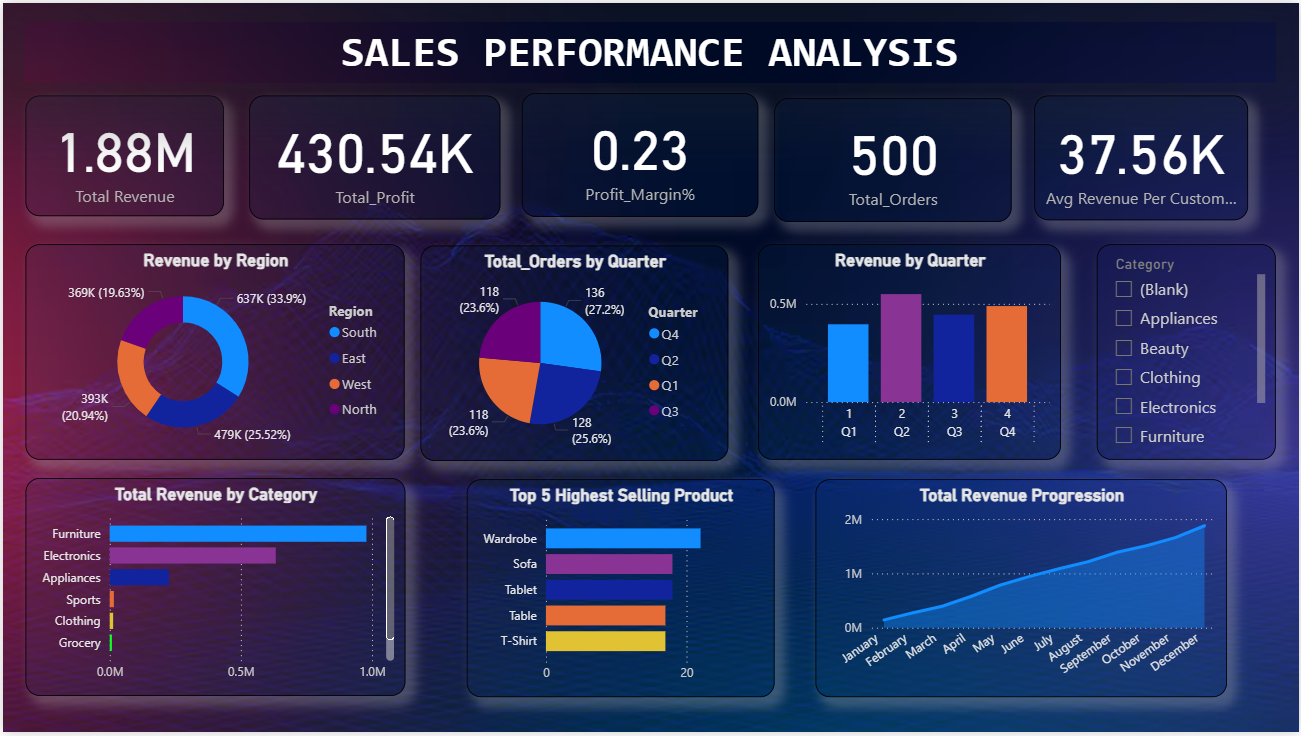

Layout of this report page (visuals, bound fields, positions):
{"tool":"powerbi","page":{"name":"Page 1","canvas":[1280,720],"ordinal":0},"visuals":[{"type":"card","fields":{"Values":["sales.Total Revenue"]},"box":[22,91.9,196.2,119.4],"z":0},{"type":"textbox","box":[21,18.5,1235.8,60.5],"z":1000},{"type":"card","fields":{"Values":["sales.Total_Profit"]},"box":[242.9,91.9,248.4,122.1],"z":2000},{"type":"card","fields":{"Values":["sales.Profit_Margin%"]},"box":[511.8,89.2,233.3,122.1],"z":3000},{"type":"card","fields":{"Values":["sales.Total_Orders"]},"box":[761.6,93.3,234.6,122.1],"z":4000},{"type":"card","fields":{"Values":["sales.Avg Revenue Per Customer"]},"box":[1018.2,91.9,211.3,123.5],"z":5000},{"type":"donutChart","title":"Revenue by Region","fields":{"Category":["customers.Region"],"Y":["Sum(sales.Revenue)"]},"box":[22,238.8,374.6,212.7],"z":6000},{"type":"barChart","fields":{"Category":["products.Category"],"Y":["sales.Total Revenue"]},"box":[22.2,469.4,375,215.3],"z":7000},{"type":"pieChart","fields":{"Y":["sales.Total_Orders"],"Category":["dates.Quarter"]},"box":[412.5,238.9,304.2,212.5],"z":8000},{"type":"barChart","title":"Top 5 Highest Selling Product","fields":{"Category":["products.ProductName"],"Y":["sales.Total_Orders"]},"box":[457.7,469.8,304.3,215.4],"z":9000},{"type":"columnChart","title":" Revenue by Quarter ","fields":{"Category":["dates.Quarter","dates.Quarter Sort"],"Y":["Sum(sales.Revenue)"]},"box":[745.1,238.8,299.1,212.7],"z":9001},{"type":"slicer","fields":{"Values":["products.Category"]},"box":[1079.9,238.8,177,212.7],"z":9002},{"type":"areaChart","title":"Total Revenue Progression","fields":{"Y":["sales.Running Total Revenue"],"Category":["dates.Date.Variation.Date Hierarchy.Month"]},"box":[802.4,469.8,406.6,215.4],"z":9003}]}

Visuals, with their boxes in screenshot pixels (x1, y1, x2, y2), scaled from the page's 1280x720 canvas onto the 1301x736 screenshot:
card - sales.Total Revenue: 22:94:222:216
textbox: 21:19:1277:81
card - sales.Total_Profit: 247:94:499:219
card - sales.Profit_Margin%: 520:91:757:216
card - sales.Total_Orders: 774:95:1013:220
card - sales.Avg Revenue Per Customer: 1035:94:1250:220
"Revenue by Region" donutChart: 22:244:403:462
barChart - products.Category x sales.Total Revenue: 23:480:404:700
pieChart - sales.Total_Orders x dates.Quarter: 419:244:728:461
"Top 5 Highest Selling Product" barChart: 465:480:775:700
" Revenue by Quarter " columnChart: 757:244:1061:462
slicer - products.Category: 1098:244:1278:462
"Total Revenue Progression" areaChart: 816:480:1229:700
